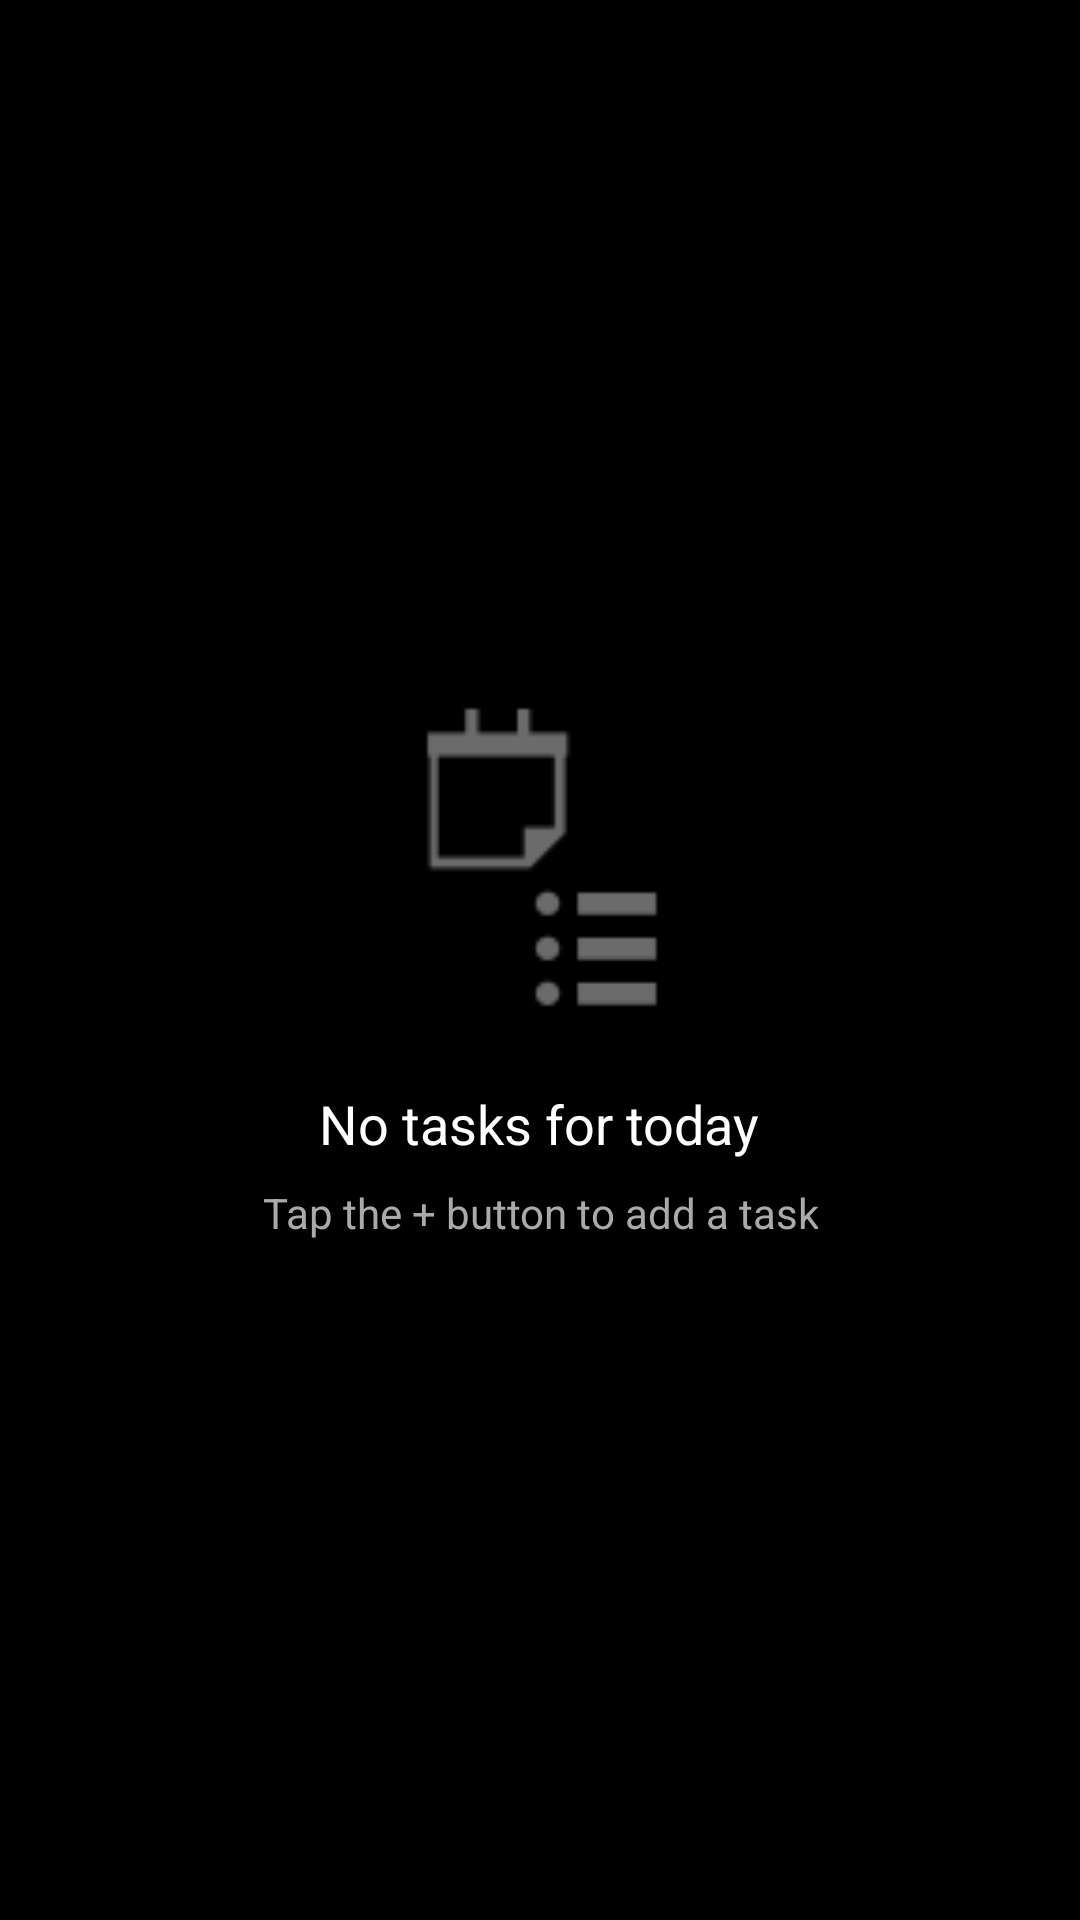

Point at icon controls on the screen. Image size 1080px×1920px, points as (x=x, y=y).
agenda: (x=542, y=857)
